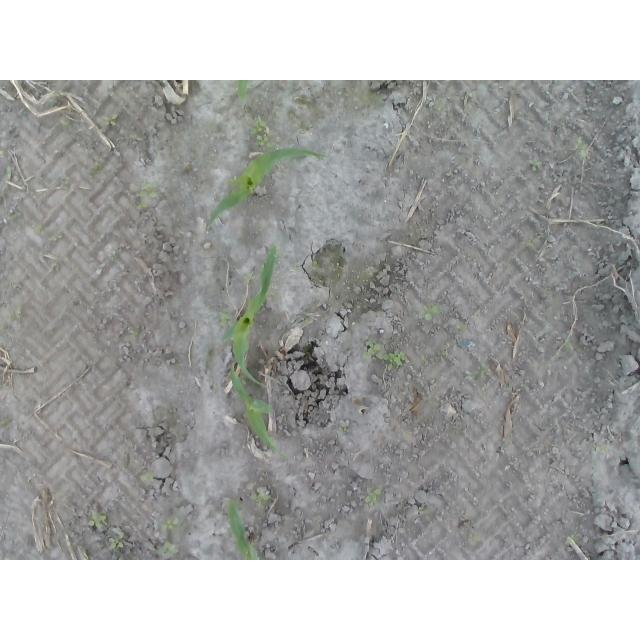Maize: (204, 143, 328, 229), (218, 242, 278, 390), (230, 364, 283, 457), (228, 501, 264, 560)
Weeds: (361, 340, 408, 369), (249, 114, 279, 150), (138, 183, 159, 209), (89, 510, 108, 530), (419, 305, 441, 320), (109, 534, 128, 551), (159, 541, 178, 558), (365, 488, 383, 504), (464, 368, 487, 380), (219, 311, 233, 330), (251, 493, 273, 505), (102, 113, 119, 128), (161, 519, 179, 530), (527, 157, 541, 171), (577, 144, 587, 160), (33, 224, 44, 236), (142, 475, 154, 482)
